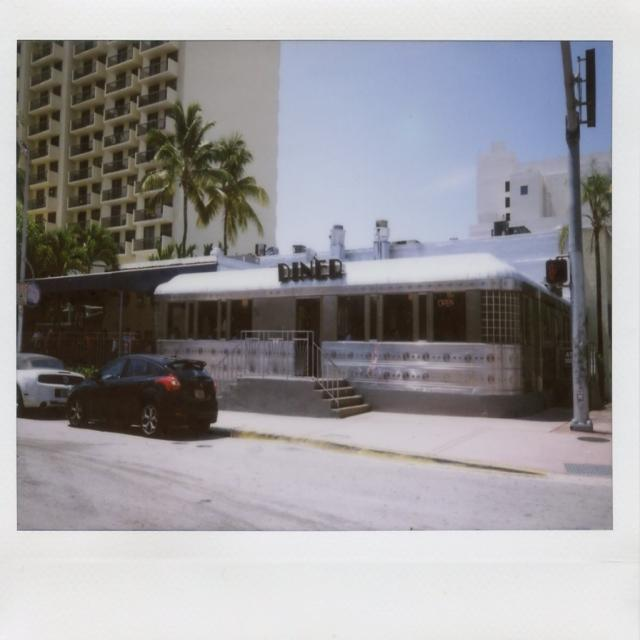car: (69, 350, 215, 433)
